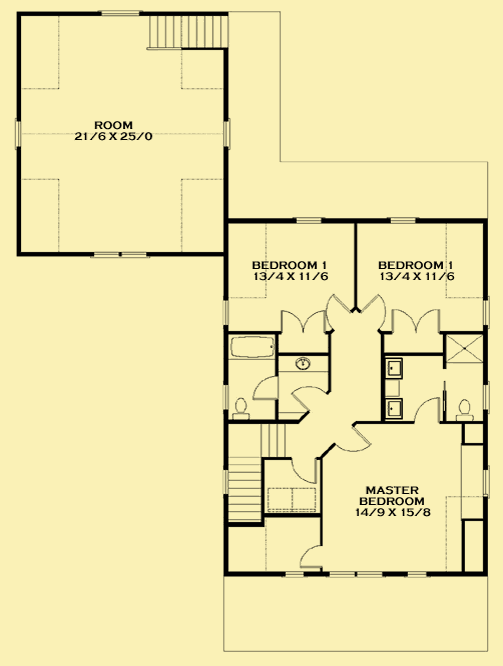door: (390, 303, 444, 338), (278, 306, 329, 340), (332, 422, 372, 457), (323, 292, 354, 331), (288, 382, 330, 410), (288, 453, 324, 485), (251, 371, 283, 404), (361, 293, 387, 332), (412, 395, 442, 427), (298, 541, 325, 570)
large sink: (226, 395, 255, 422), (455, 395, 476, 430)
small sink: (279, 357, 333, 373)
stairs: (223, 422, 289, 532), (143, 8, 233, 54)
tub: (227, 331, 279, 363)
windows: (88, 246, 155, 262), (324, 568, 391, 581), (90, 4, 140, 20), (382, 212, 426, 229), (478, 293, 495, 333), (287, 212, 329, 228), (479, 378, 495, 416), (477, 462, 493, 499), (10, 116, 26, 152), (219, 113, 233, 154), (221, 296, 232, 331)
